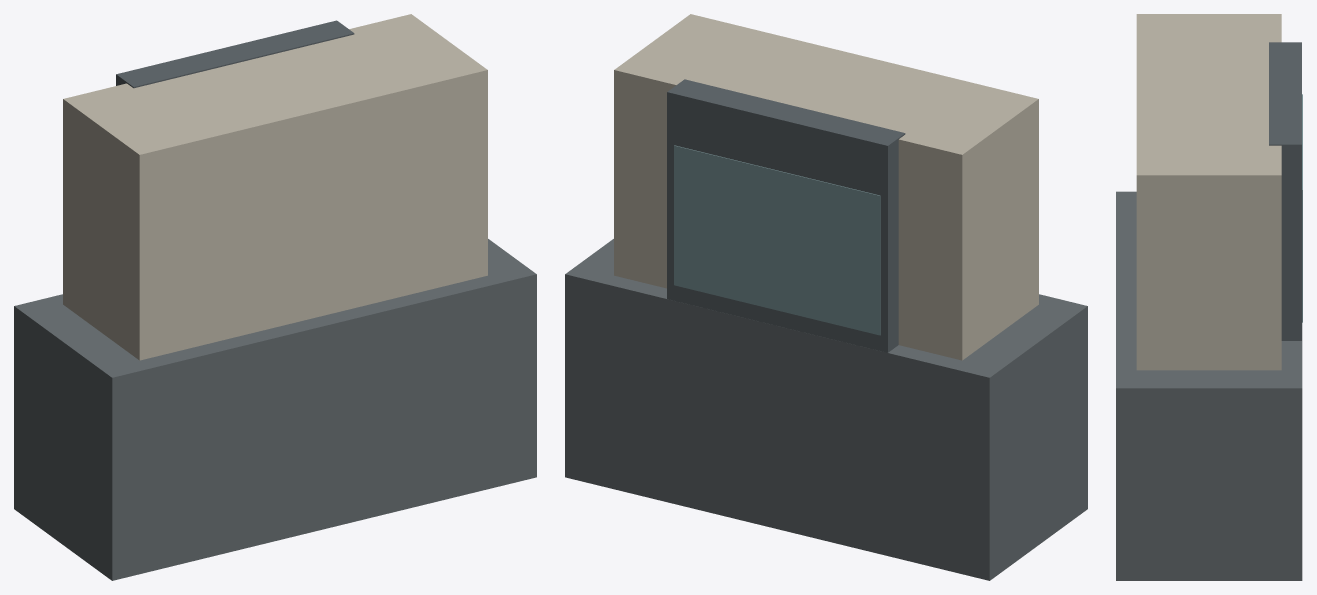
File: iz3_environment_wheel_01.glb
3 renders of one model, left to right at view 1: azimuth 30°, elevation 25°; view 2: azimuth 150°, elevation 25°; view 3: azimuth 270°, elevation 25°, orthographic. The views are drawn at different scales.
Parts seen in each view (by area): view 1: base, cabinet, panel; view 2: base, cabinet, display, panel; view 3: cabinet, base, panel.
Part boxes in pixels (<box>): base: <box>14,239,536,580</box>; cabinet: <box>63,14,487,360</box>; panel: <box>116,20,354,88</box>; base: <box>565,239,1087,580</box>; cabinet: <box>614,14,1038,360</box>; display: <box>674,145,880,335</box>; panel: <box>667,79,905,352</box>; cabinet: <box>1136,14,1281,370</box>; base: <box>1116,191,1302,580</box>; panel: <box>1269,42,1301,340</box>.
Bounding box in the file's own units: 0.7 × 0.646 × 0.281.
